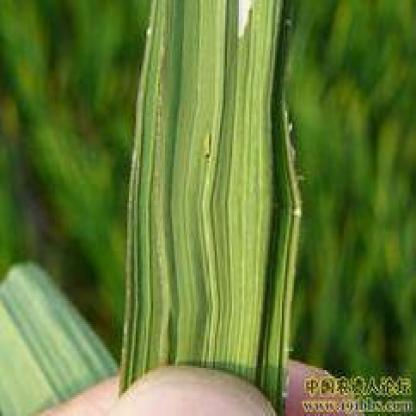leaf-folder: (199, 120, 226, 168)
